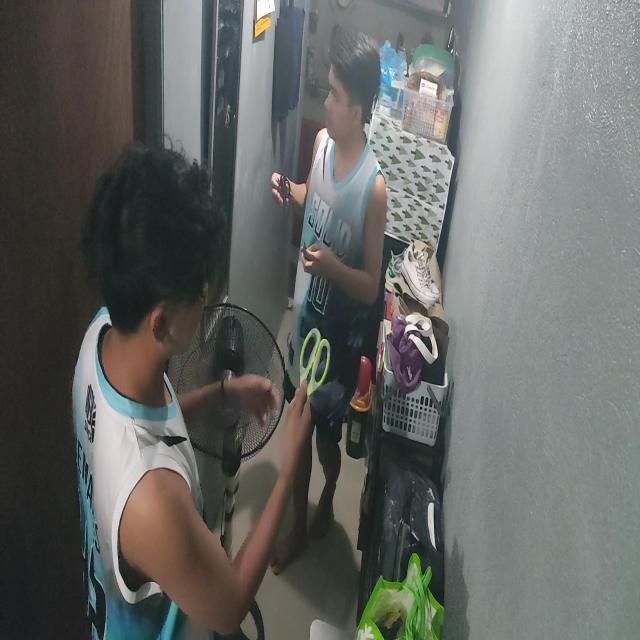scissor: (293, 327, 331, 429), (276, 144, 291, 201)
